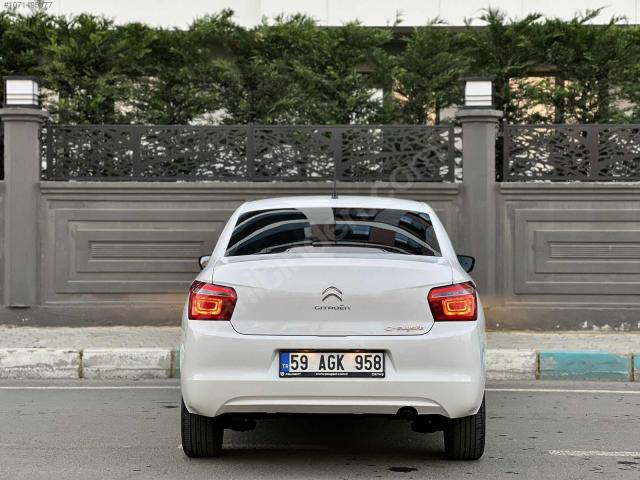plaka: (280, 351, 384, 378)
